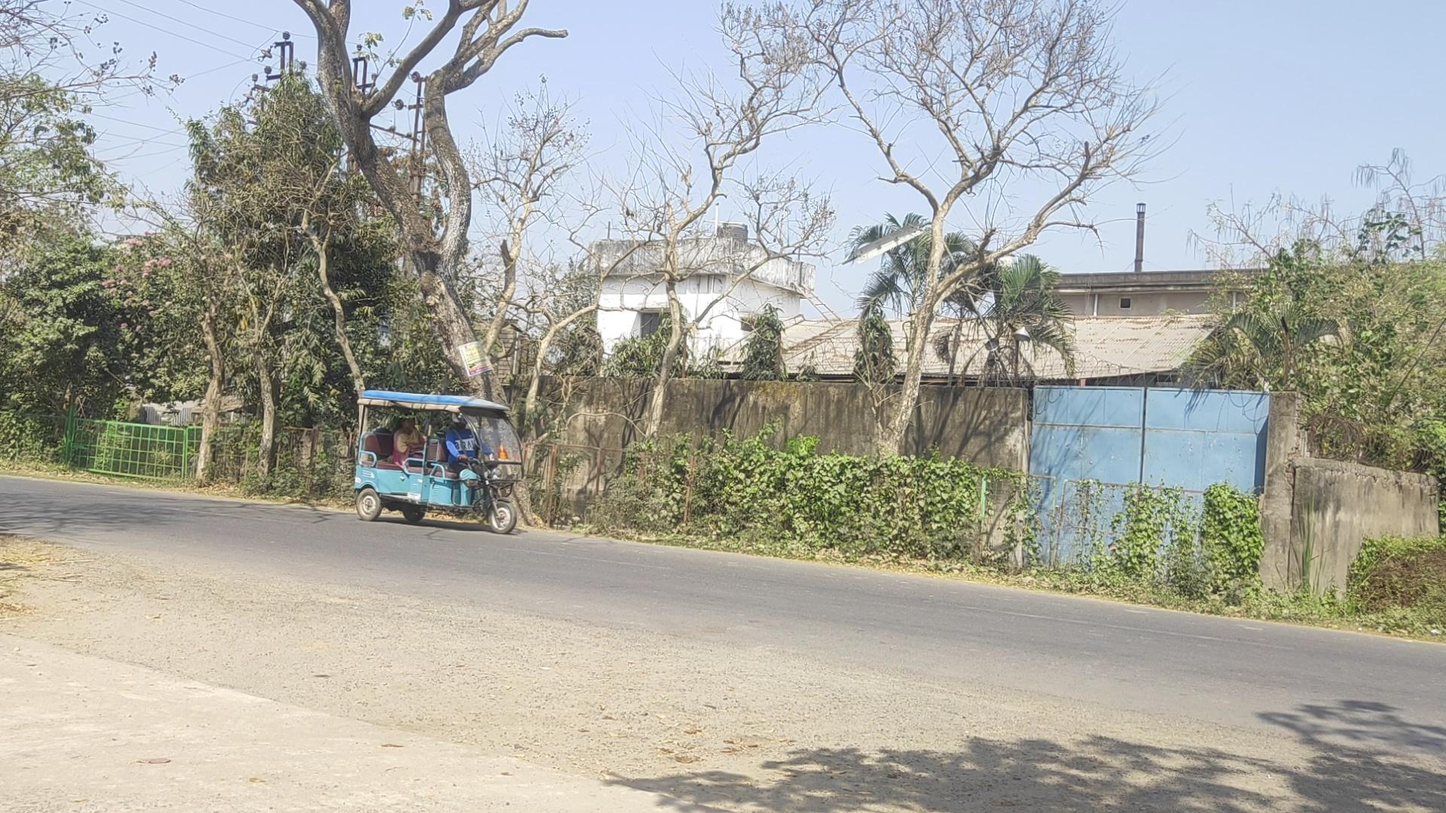Auto: (349, 388, 524, 537)
